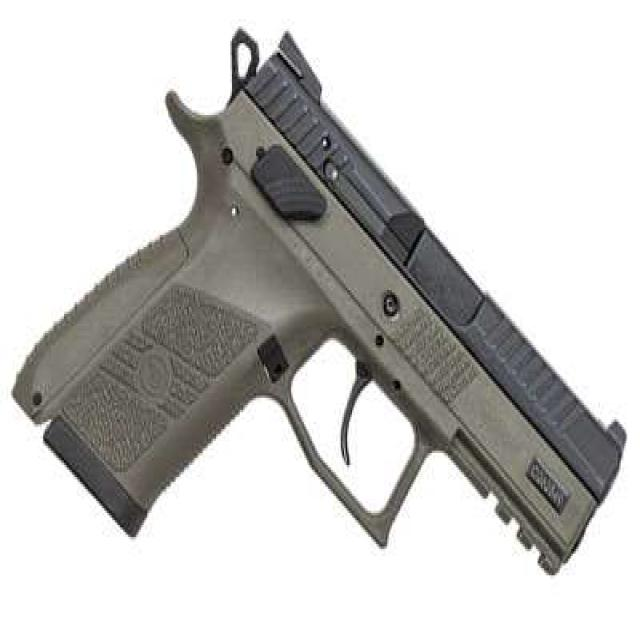HandGun: (13, 31, 626, 578)
